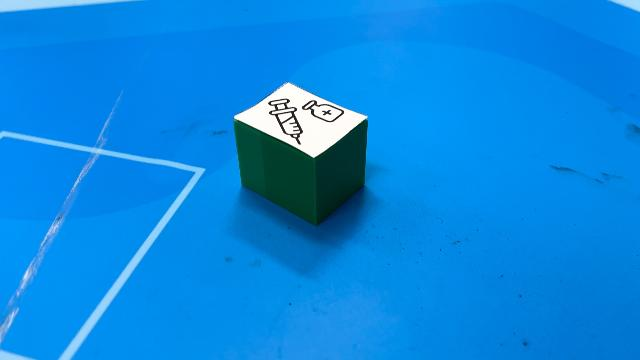syringe: (234, 80, 368, 226)
